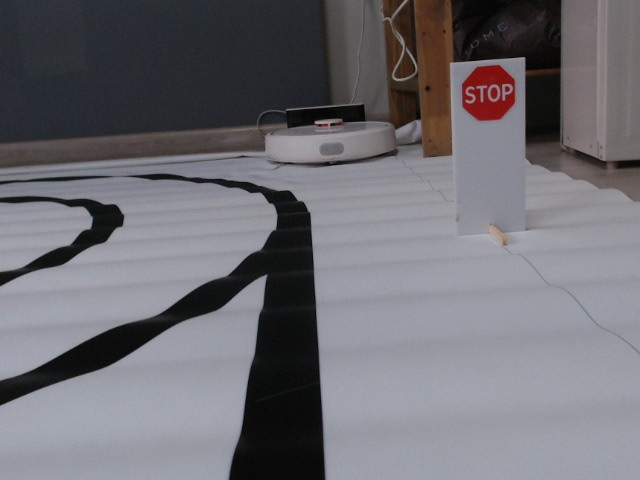Stop: (461, 63, 515, 122)
